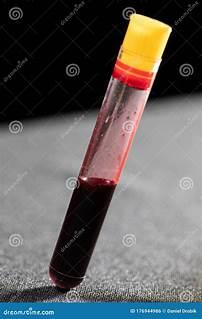Test tube: (43, 0, 168, 292)
